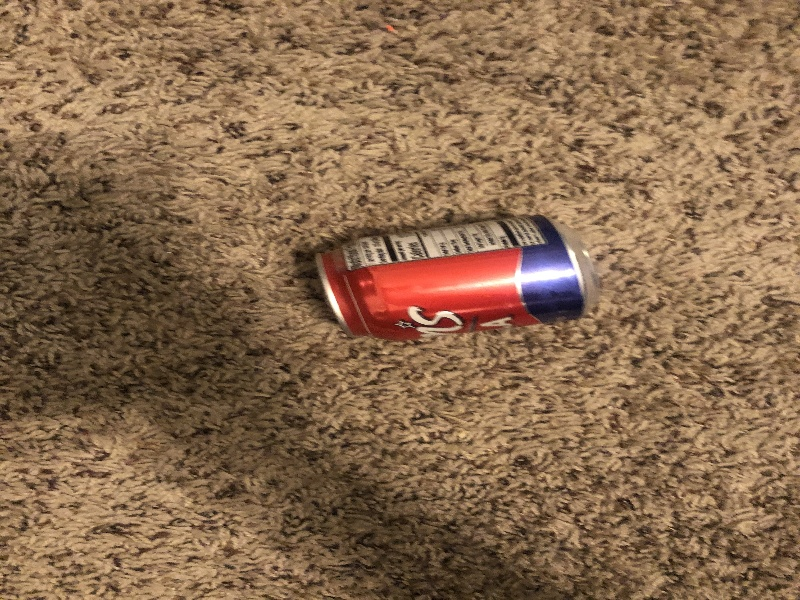metal: (313, 209, 606, 346)
